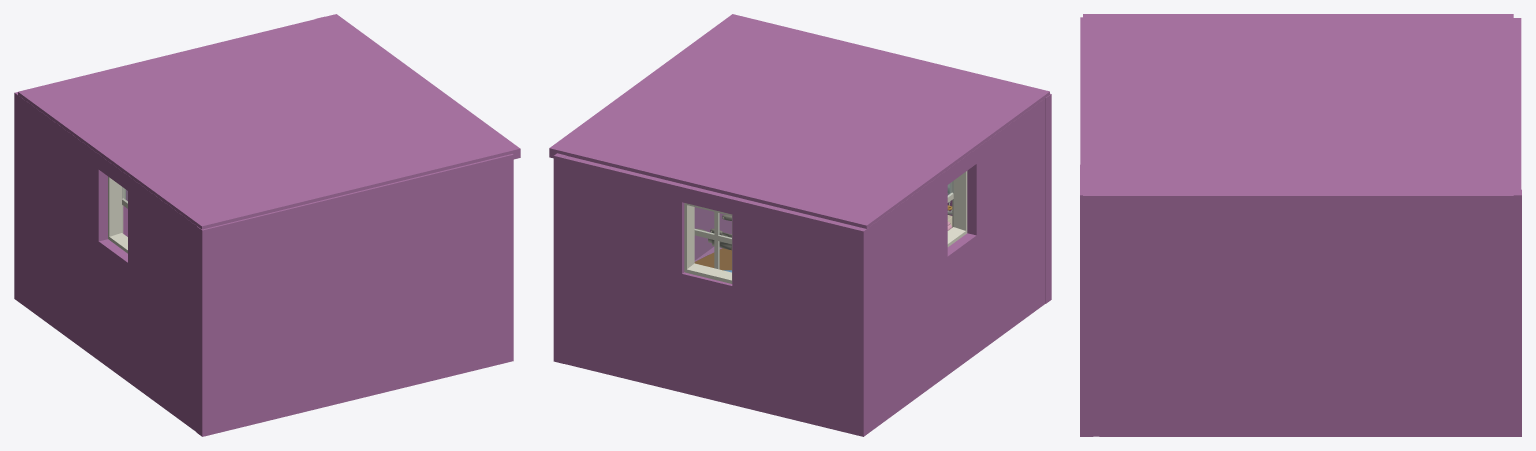
The model's file is Escena_2_Cocina.fbx.
3 views of the same model, side by side, from view 1: azimuth 30°, elevation 25°; view 2: azimuth 150°, elevation 25°; view 3: azimuth 270°, elevation 25° (orthographic). The views are drawn at different scales.
Visible parts, largest first — view 1: Wall_03a, techo, Room_01d, Plane; view 2: Room_01d, techo, Plane.001, Wall_03a.001, Wall_03a, Plane, MetalTable_01c; view 3: Wall_03a.001, techo, Wall_03a, Room_01d.
Part boxes in pixels (x1,y1,x2,y2): Wall_03a: (196,154,513,436); techo: (18,14,520,229); Room_01d: (14,92,196,431); Plane: (108,176,127,253); Room_01d: (563,98,1045,436); techo: (549,14,1049,228); Plane.001: (684,203,732,283); Wall_03a.001: (553,153,731,363); Wall_03a: (947,93,1051,303); Plane: (947,171,967,246); MetalTable_01c: (694,248,731,270); Wall_03a.001: (1082,189,1521,436); techo: (1083,14,1513,206); Wall_03a: (1080,17,1093,436); Room_01d: (1513,18,1521,189).
Size of the model in its own units: 1456 by 914 by 1491.
